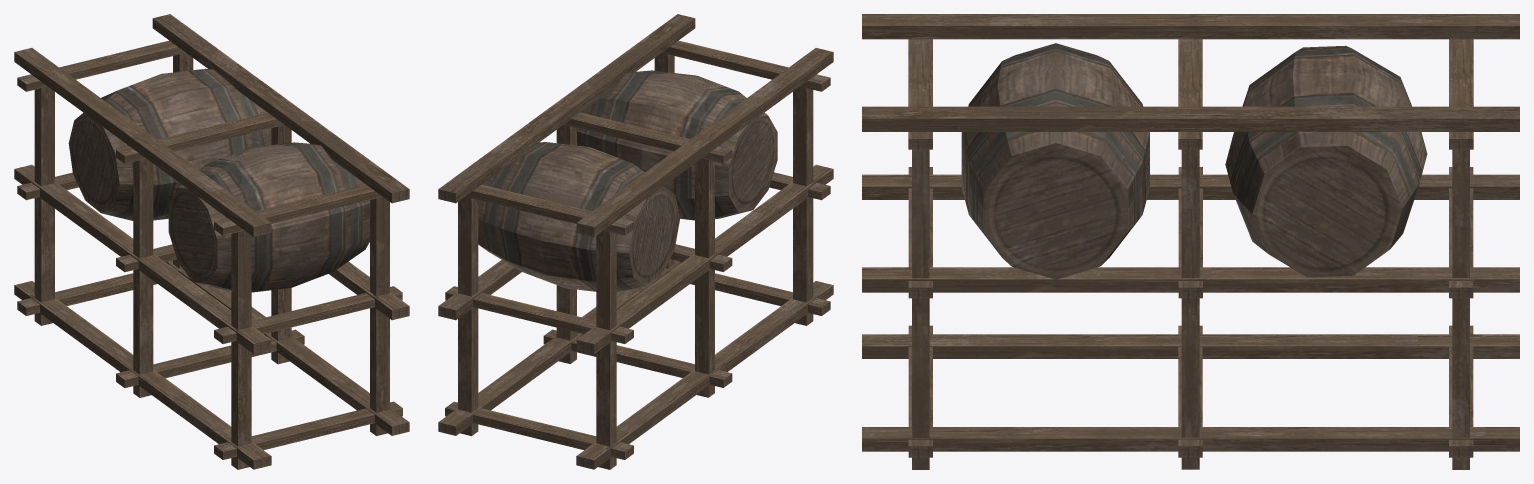
Rendered from bg_lut_lucastle_pubprop01_sm_artree.FBX.
3 renders of one model, left to right at view 1: azimuth 30°, elevation 25°; view 2: azimuth 150°, elevation 25°; view 3: azimuth 270°, elevation 25°, orthographic. The views are drawn at different scales.
Visible parts, largest first — view 1: bg_lut_lucastle_pubprop01_sm_artree; view 2: bg_lut_lucastle_pubprop01_sm_artree; view 3: bg_lut_lucastle_pubprop01_sm_artree.
Boxes of the visible parts, x1=… form: bg_lut_lucastle_pubprop01_sm_artree: x1=14, y1=14, x2=409, y2=469; bg_lut_lucastle_pubprop01_sm_artree: x1=438, y1=14, x2=833, y2=469; bg_lut_lucastle_pubprop01_sm_artree: x1=862, y1=14, x2=1519, y2=469.
Bounding box in the file's own units: 91.96 × 127 × 212.
